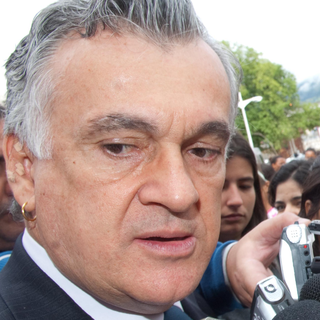eye: (94, 135, 145, 160), (182, 140, 225, 164)
